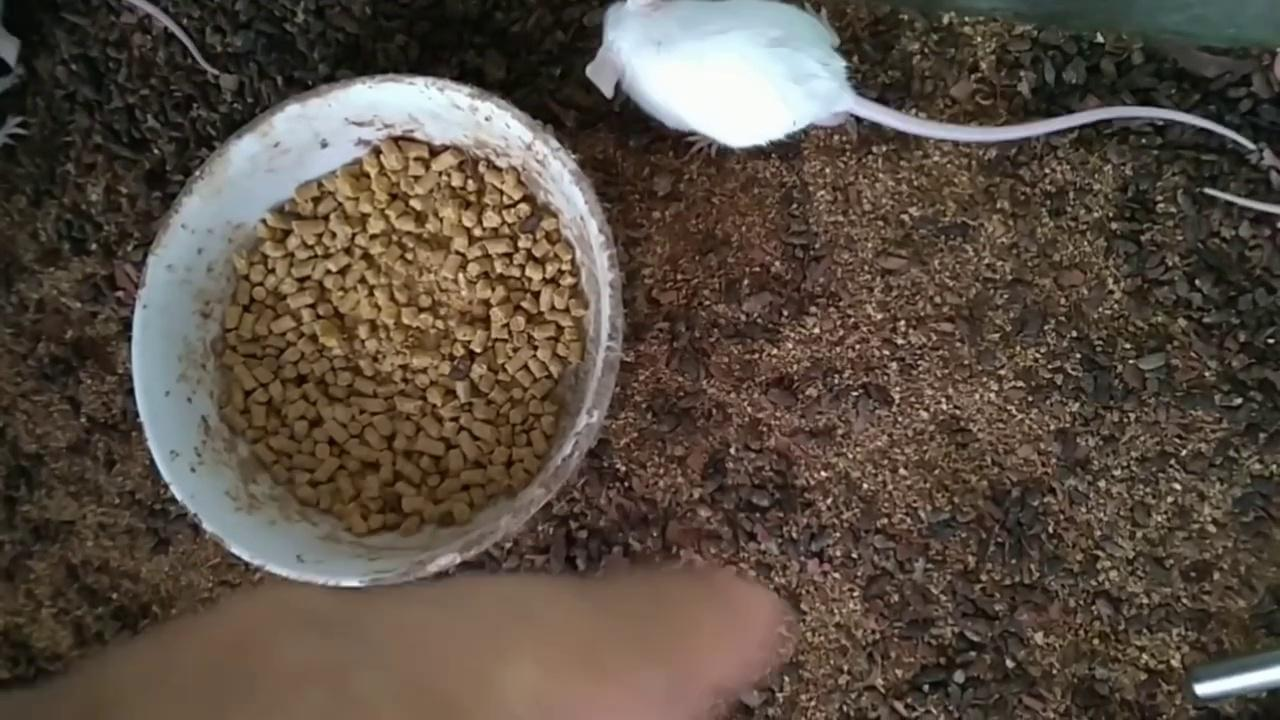rat: (582, 0, 1256, 160)
